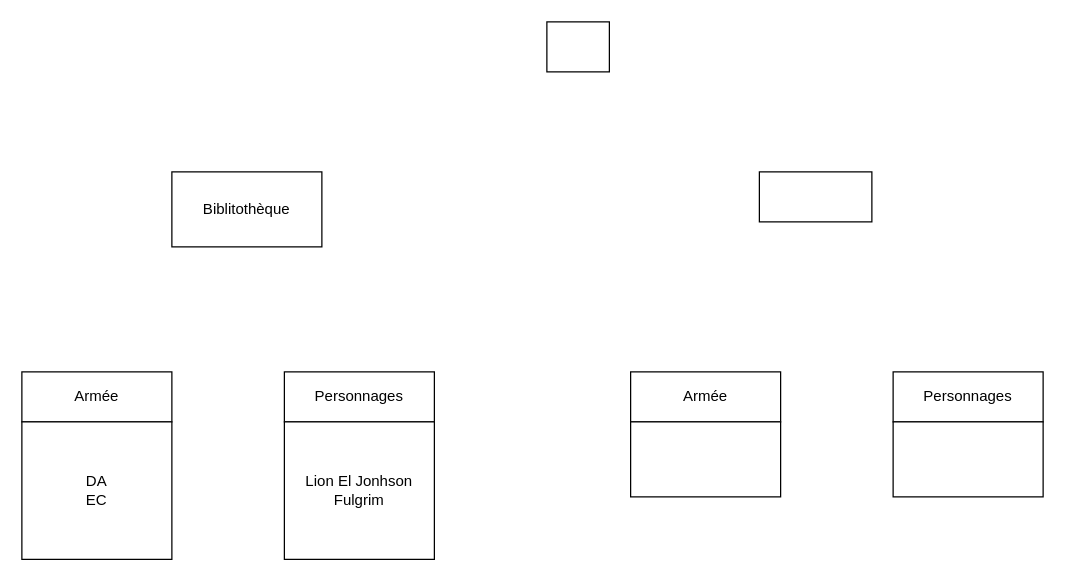
Image size: 1065x581. Some labels were removed from this diagram. Each missing label, with the centre of its shape:
Communauté: the point at 815,196
Home: the point at 577,46
